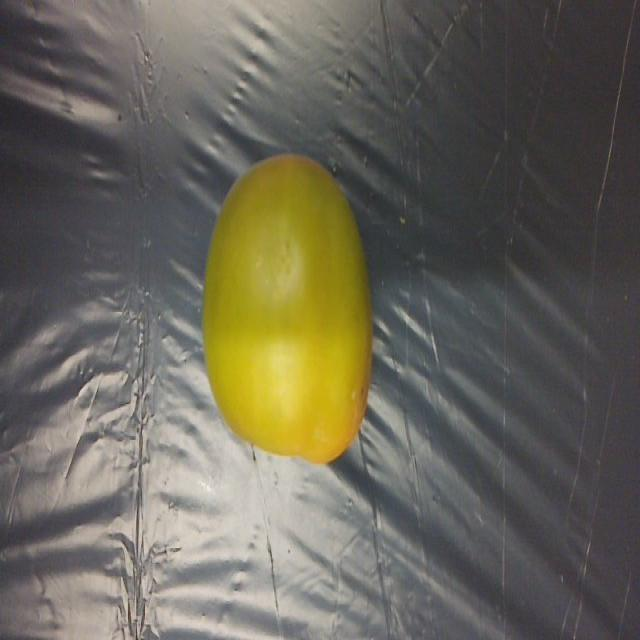unripe: (250, 95, 528, 420)
